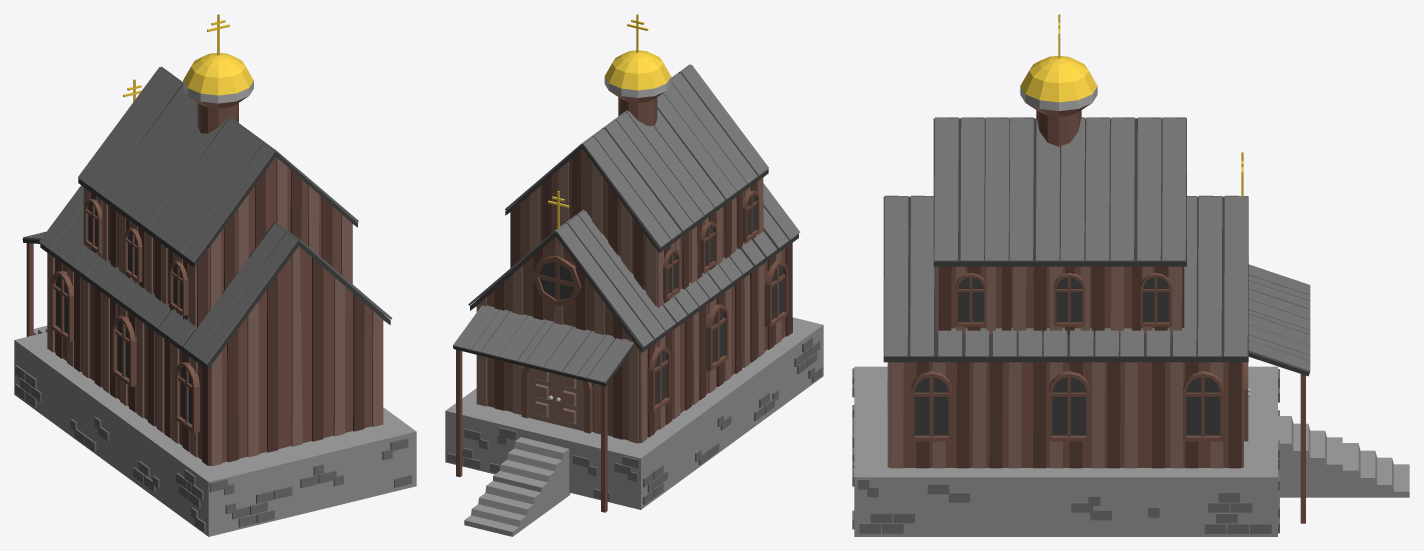
File: Church_1.FBX
3 renders of one model, left to right at view 1: azimuth 30°, elevation 25°; view 2: azimuth 150°, elevation 25°; view 3: azimuth 270°, elevation 25°, orthographic. The views are drawn at different scales.
Visible parts, largest first — view 1: Church_1; view 2: Church_1; view 3: Church_1.
Boxes of the visible parts, x1,y1,x2,y2 form: Church_1: (14,14,416,536); Church_1: (445,14,823,536); Church_1: (852,14,1409,536).
Bounding box in the file's own units: 636 × 1242 × 1334.
